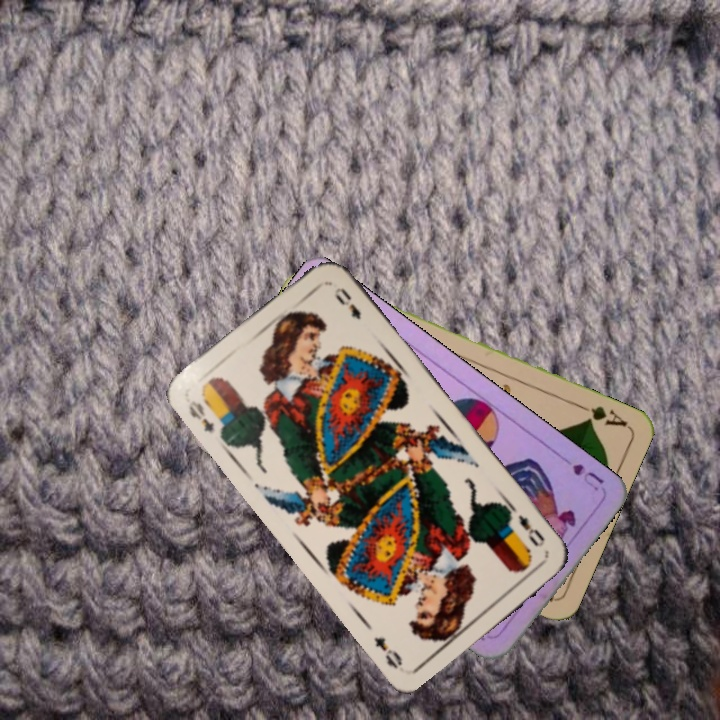EO: (513, 510, 548, 550), (184, 396, 217, 435)
GA: (573, 400, 630, 430)
SU: (554, 449, 606, 494)
